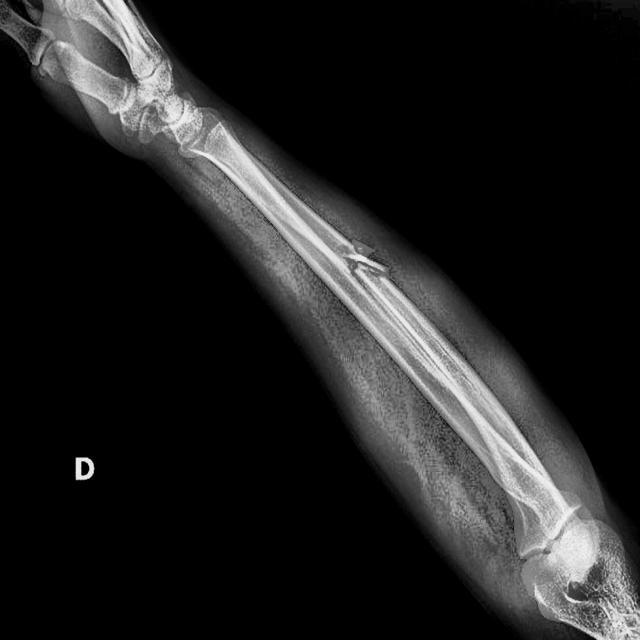fracture: (345, 238, 389, 281)
